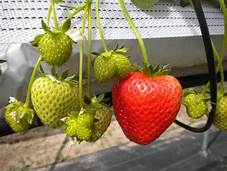Fresa: (108, 65, 188, 150)
